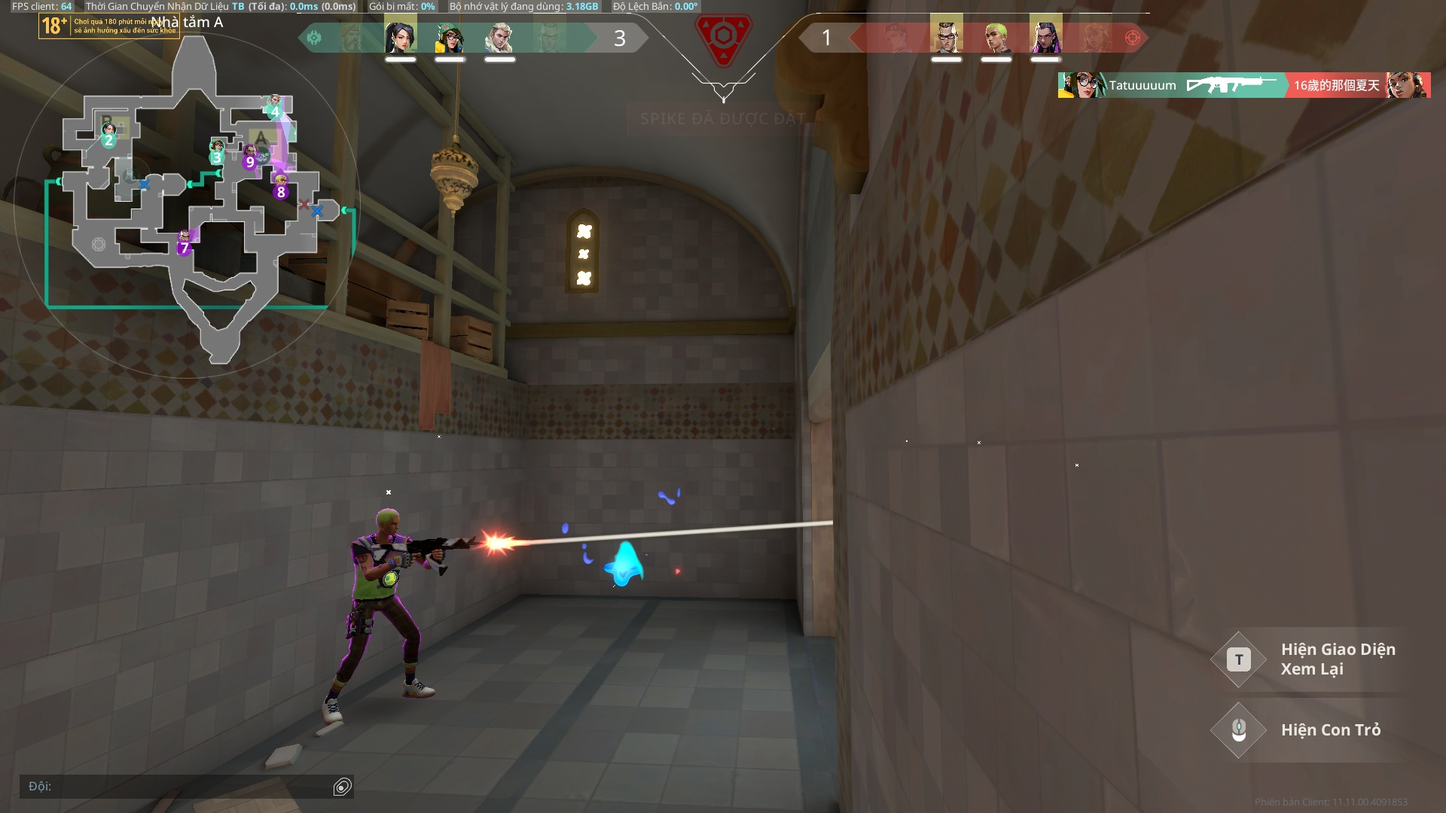body: (346, 531, 404, 598)
head: (372, 505, 403, 535)
